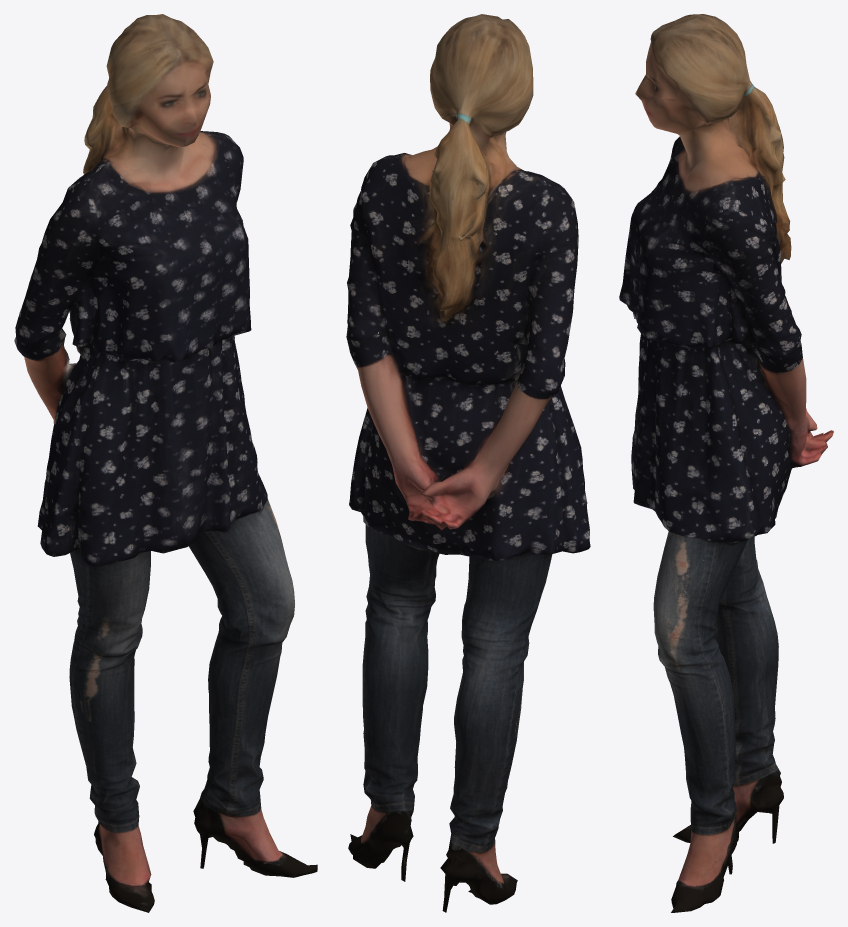
The model's file is human2.glb.
The picture shows the model from 3 angles, left to right: view 1: azimuth 30°, elevation 25°; view 2: azimuth 150°, elevation 25°; view 3: azimuth 270°, elevation 25°; orthographic projection. The views are drawn at different scales.
Parts seen in each view (by area): view 1: D3D-P-LOW-001; view 2: D3D-P-LOW-001; view 3: D3D-P-LOW-001.
Part boxes in pixels (x1=…): D3D-P-LOW-001: x1=14, y1=14, x2=317, y2=912; D3D-P-LOW-001: x1=346, y1=14, x2=590, y2=912; D3D-P-LOW-001: x1=619, y1=14, x2=833, y2=912.
Size of the model in its own units: 0.5178 by 1.69 by 0.3966.
1 material, 1 textured.
